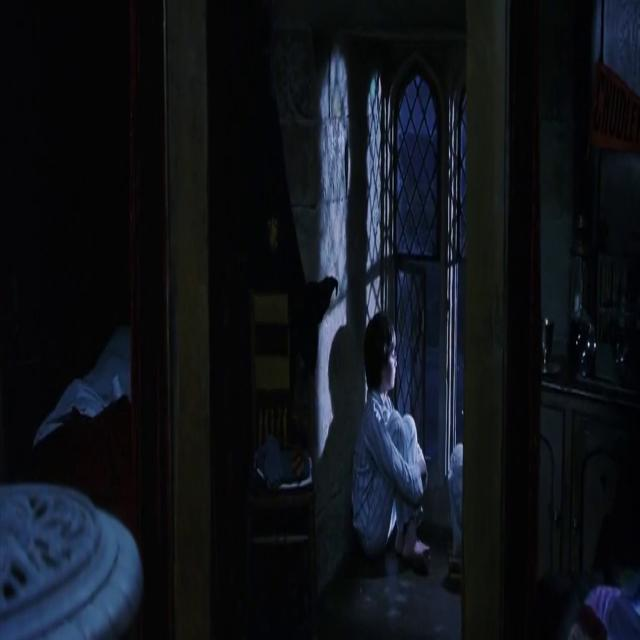People: (353, 285, 436, 588)
Table: (0, 444, 153, 640), (568, 556, 640, 640)
chair: (236, 284, 331, 593)
